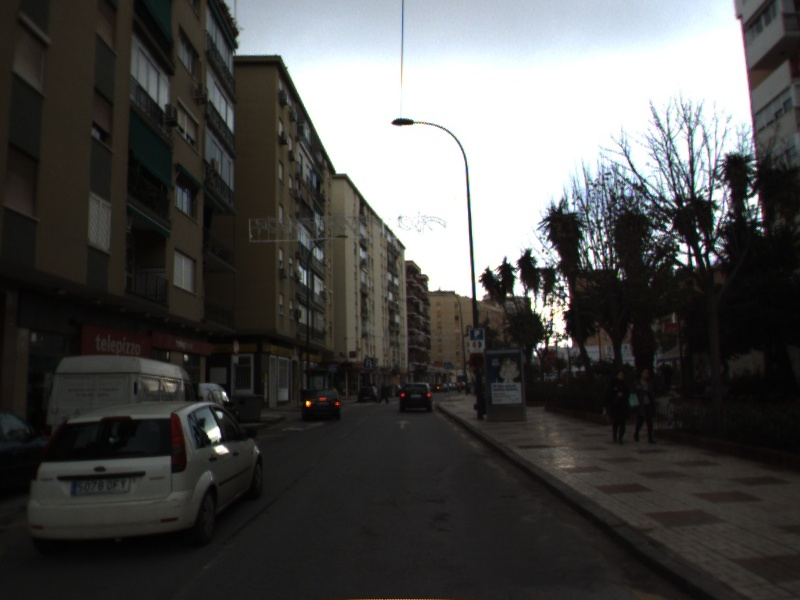STRAIGHT: (393, 418, 413, 431)
STRAIGHT_LEFT: (279, 419, 327, 434)
